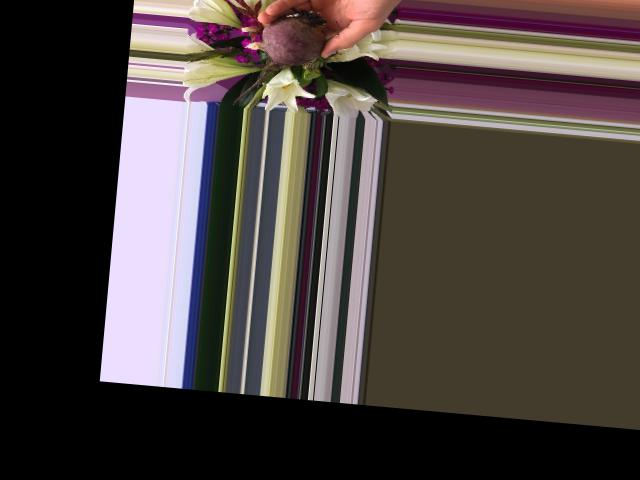beet: (231, 4, 327, 111)
